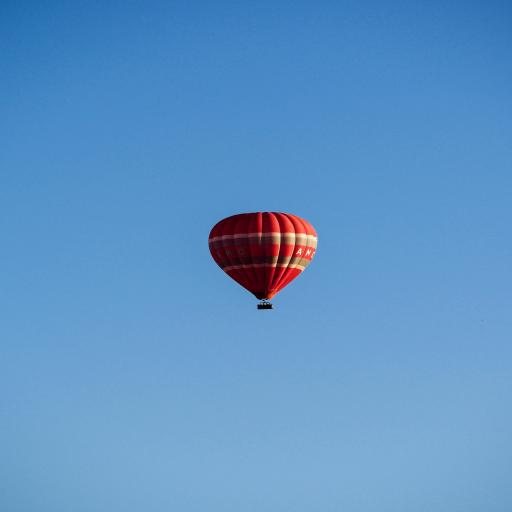hot air ballon: (206, 208, 322, 314)
